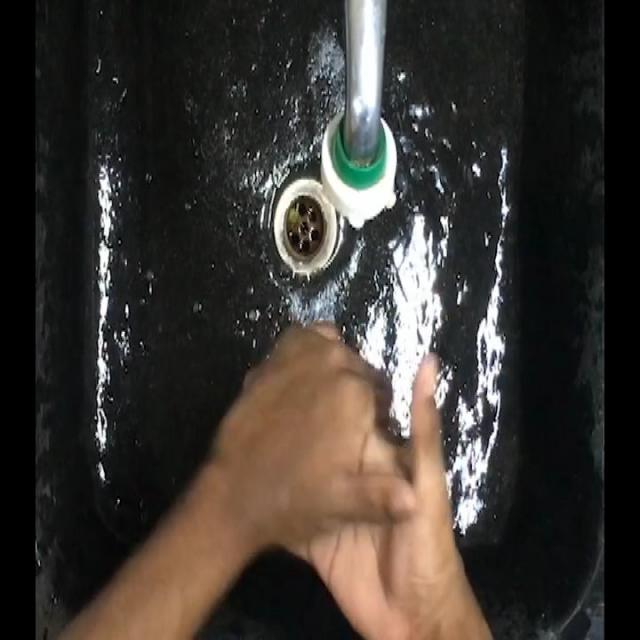step_5: (216, 308, 450, 620)
